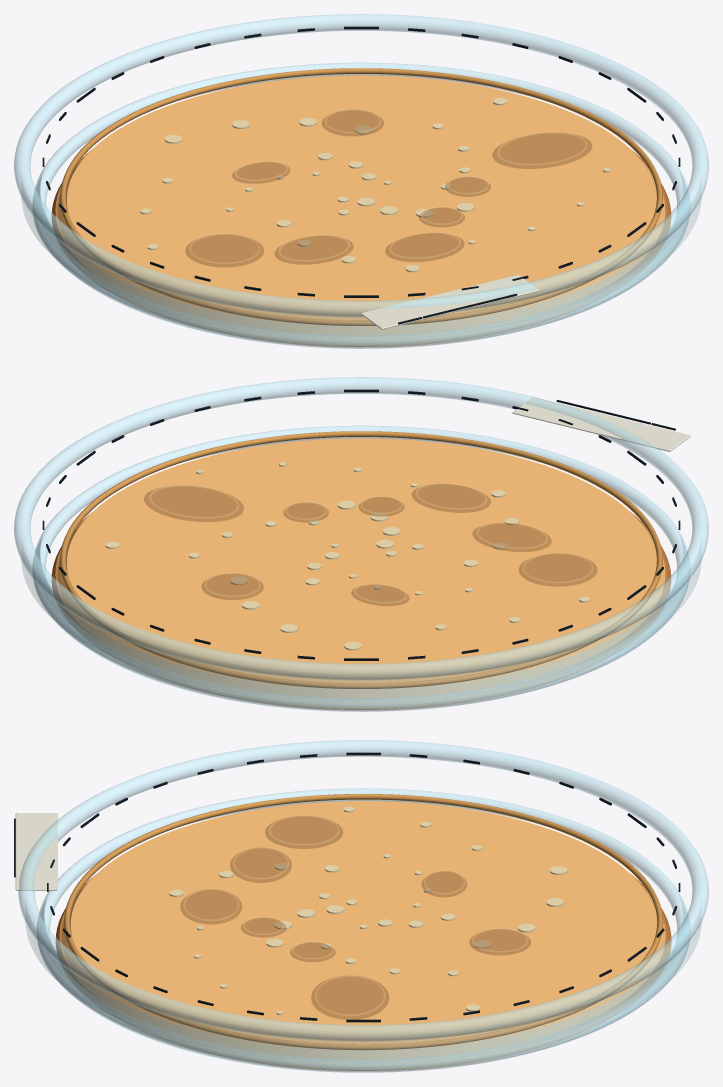
Rendered from petri-dish-plaque-assay.glb.
3 views of the same model, one above another, from view 1: azimuth 30°, elevation 25°; view 2: azimuth 150°, elevation 25°; view 3: azimuth 270°, elevation 25° (orthographic).
Parts seen in each view (by area): view 1: amber_agar_surface, raised_clear_lid_rim, transparent_lid_wall_with_depth, thick_clear_bottom_rim, clear_bottom_dish_wall, agar_meniscus_rim, darker_agar_sidewall, cream_side_label_tape, cloudy_phage_plaque_5, cloudy_phage_plaque_2, cloudy_phage_plaque_1, cloudy_phage_plaque_7 (+4 smaller); view 2: amber_agar_surface, raised_clear_lid_rim, transparent_lid_wall_with_depth, thick_clear_bottom_rim, clear_bottom_dish_wall, agar_meniscus_rim, darker_agar_sidewall, cream_side_label_tape, cloudy_phage_plaque_5, cloudy_phage_plaque_2, cloudy_phage_plaque_1, cloudy_phage_plaque_7 (+4 smaller); view 3: amber_agar_surface, raised_clear_lid_rim, transparent_lid_wall_with_depth, thick_clear_bottom_rim, clear_bottom_dish_wall, agar_meniscus_rim, darker_agar_sidewall, cream_side_label_tape, cloudy_phage_plaque_5, cloudy_phage_plaque_2, cloudy_phage_plaque_1, cloudy_phage_plaque_7 (+4 smaller).
Part boxes in pixels (x1=…): amber_agar_surface: x1=57, y1=75, x2=665, y2=338; raised_clear_lid_rim: x1=14, y1=14, x2=708, y2=317; transparent_lid_wall_with_depth: x1=21, y1=181, x2=701, y2=339; thick_clear_bottom_rim: x1=32, y1=62, x2=690, y2=348; clear_bottom_dish_wall: x1=34, y1=170, x2=688, y2=346; agar_meniscus_rim: x1=60, y1=68, x2=662, y2=325; darker_agar_sidewall: x1=51, y1=148, x2=671, y2=346; cream_side_label_tape: x1=361, y1=274, x2=539, y2=329; cloudy_phage_plaque_5: x1=492, y1=132, x2=591, y2=168; cloudy_phage_plaque_2: x1=185, y1=234, x2=263, y2=267; cloudy_phage_plaque_1: x1=385, y1=233, x2=464, y2=261; cloudy_phage_plaque_7: x1=275, y1=235, x2=353, y2=264; amber_agar_surface: x1=57, y1=438, x2=665, y2=701; raised_clear_lid_rim: x1=14, y1=377, x2=708, y2=680; transparent_lid_wall_with_depth: x1=21, y1=544, x2=701, y2=702; thick_clear_bottom_rim: x1=32, y1=425, x2=690, y2=711; clear_bottom_dish_wall: x1=34, y1=533, x2=688, y2=709; agar_meniscus_rim: x1=60, y1=431, x2=662, y2=688; darker_agar_sidewall: x1=51, y1=511, x2=671, y2=709; cream_side_label_tape: x1=512, y1=397, x2=690, y2=451; cloudy_phage_plaque_5: x1=144, y1=485, x2=243, y2=521; cloudy_phage_plaque_2: x1=519, y1=553, x2=596, y2=586; cloudy_phage_plaque_1: x1=412, y1=484, x2=490, y2=512; cloudy_phage_plaque_7: x1=472, y1=523, x2=551, y2=551; amber_agar_surface: x1=61, y1=801, x2=665, y2=1062; raised_clear_lid_rim: x1=18, y1=740, x2=708, y2=1041; transparent_lid_wall_with_depth: x1=26, y1=905, x2=701, y2=1063; thick_clear_bottom_rim: x1=37, y1=788, x2=690, y2=1072; clear_bottom_dish_wall: x1=38, y1=895, x2=688, y2=1070; agar_meniscus_rim: x1=64, y1=794, x2=663, y2=1050; darker_agar_sidewall: x1=55, y1=874, x2=671, y2=1070; cream_side_label_tape: x1=15, y1=813, x2=57, y2=890; cloudy_phage_plaque_5: x1=311, y1=975, x2=388, y2=1019; cloudy_phage_plaque_2: x1=265, y1=816, x2=342, y2=848; cloudy_phage_plaque_1: x1=180, y1=889, x2=241, y2=924; cloudy_phage_plaque_7: x1=230, y1=847, x2=291, y2=882.
Bounding box in the file's own units: 18.28 × 1.68 × 18.39.
